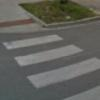crosswalks: (3, 34, 100, 100)
